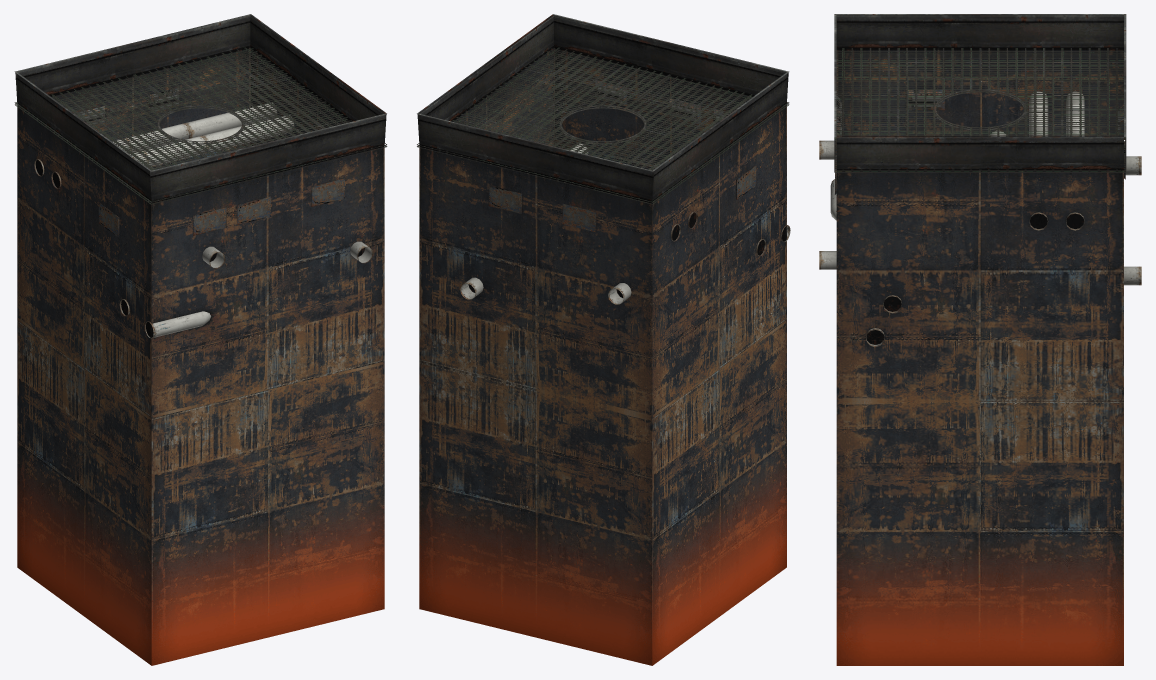
The model's file is piston_pit.obj.
3 views of the same model, side by side, from view 1: azimuth 30°, elevation 25°; view 2: azimuth 150°, elevation 25°; view 3: azimuth 270°, elevation 25° (orthographic). The views are drawn at different scales.
Visible parts, largest first — view 1: piston_pit_2.mdl/piston_pit_2.smd.001; view 2: piston_pit_2.mdl/piston_pit_2.smd.001; view 3: piston_pit_2.mdl/piston_pit_2.smd.001.
Part boxes in pixels (box(x1,y1,x2,y2)): piston_pit_2.mdl/piston_pit_2.smd.001: box(14, 14, 387, 665); piston_pit_2.mdl/piston_pit_2.smd.001: box(417, 14, 790, 665); piston_pit_2.mdl/piston_pit_2.smd.001: box(819, 14, 1141, 665).
Bounding box in the file's own units: 2.02 × 4 × 2.2.
